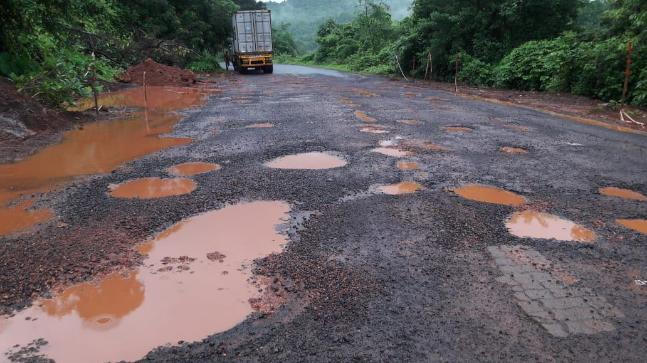pothole: (32, 181, 319, 350), (19, 86, 213, 217), (260, 126, 354, 188), (436, 166, 530, 219)
